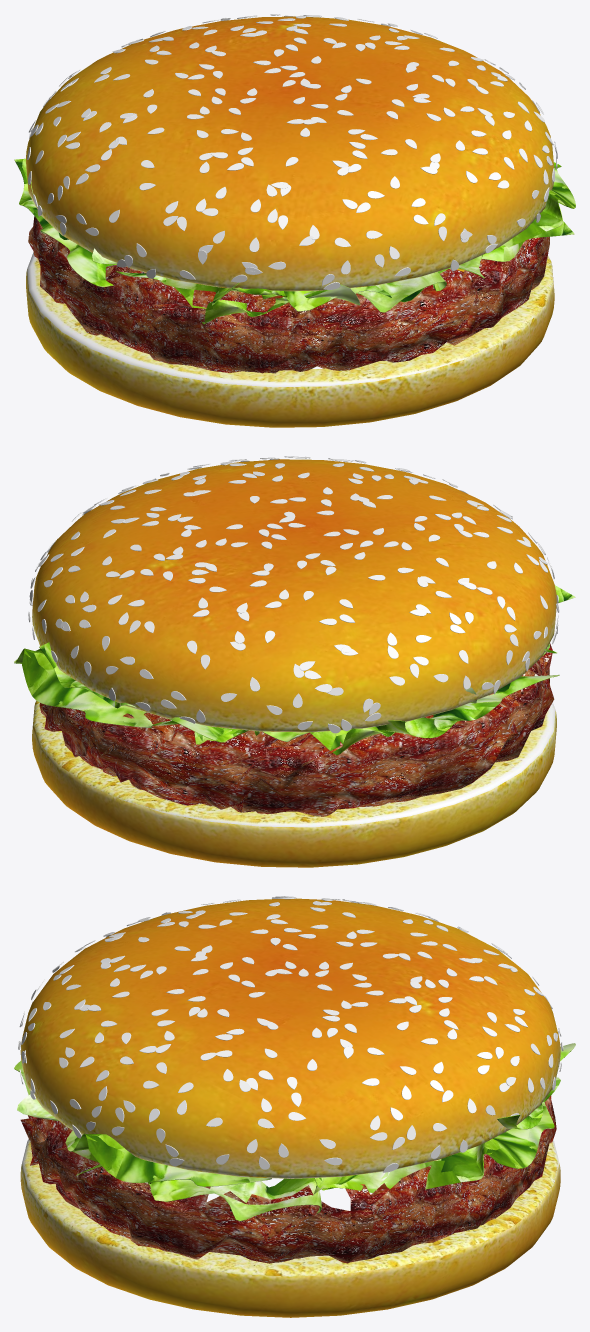
The model's file is Burger.FBX.
3 views of the same model, one above another, from view 1: azimuth 30°, elevation 25°; view 2: azimuth 150°, elevation 25°; view 3: azimuth 270°, elevation 25° (orthographic). The views are drawn at different scales.
Parts seen in each view (by area): view 1: Bread top, chicken, bread down, white top, spanich (×2); view 2: Bread top, chicken, bread down, white top, spanich (×2); view 3: Bread top, bread down, chicken, white top, spanich (×2).
Boxes of the visible parts, x1,y1,x2,y2 form: Bread top: (26,16,554,291); chicken: (28,216,549,373); bread down: (26,252,554,427); white top: (27,14,557,289); spanich (×2): (14,158,575,324); Bread top: (32,459,556,732); chicken: (39,643,554,816); bread down: (32,700,556,867); white top: (28,456,559,733); spanich (×2): (14,585,575,755); Bread top: (20,898,560,1178); bread down: (20,1139,560,1317); chicken: (20,1095,556,1263); white top: (18,896,563,1172); spanich (×2): (14,1043,575,1221).
Bounding box in the file's own units: 121 × 58.76 × 121.
